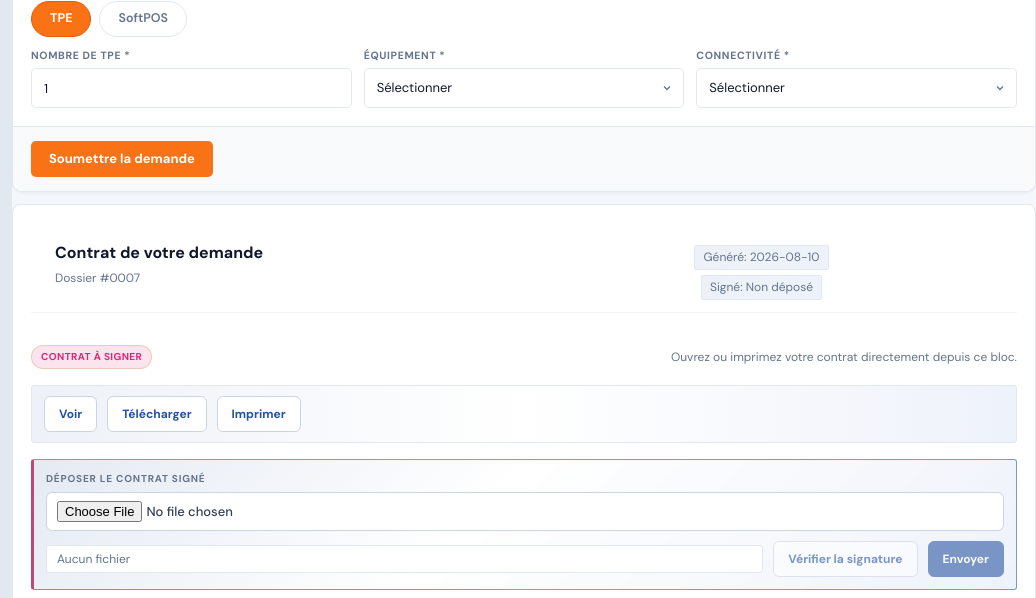
it: CommercantPdvRequestPage › affiche une erreur si l'ouverture du contrat echoue
(page scrolled)
Click the button "Voir" at (71, 414), box [44, 396, 97, 432]
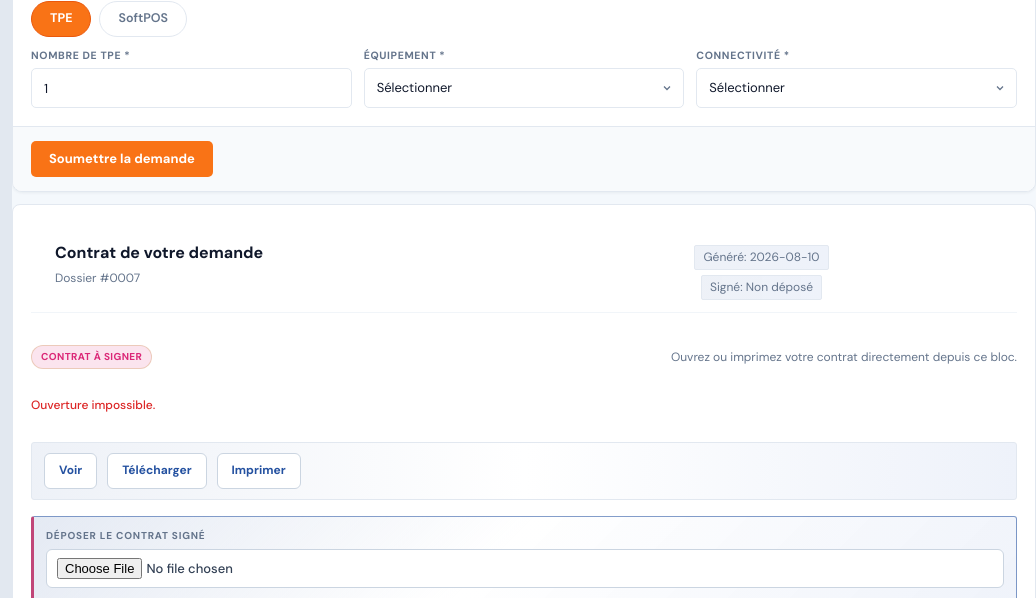
Result: the text "Ouverture impossible." is shown at [31, 397, 155, 413]
